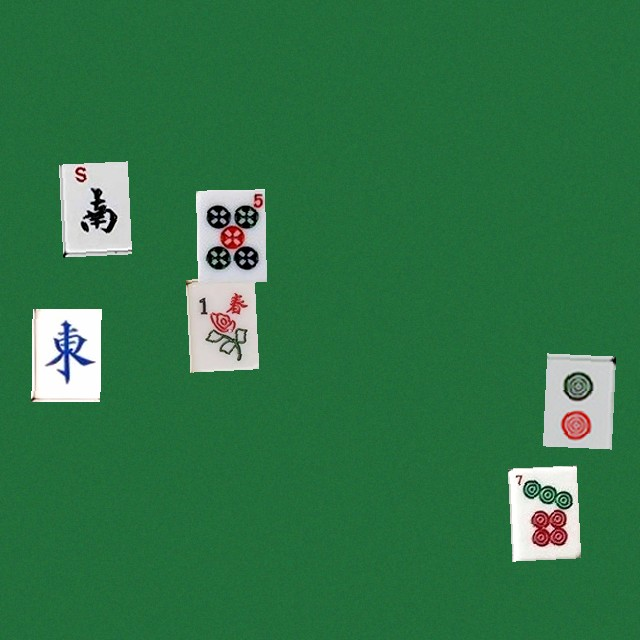tile: (31, 308, 100, 401), (542, 353, 611, 446), (507, 465, 576, 558), (185, 276, 254, 369), (58, 161, 127, 254), (196, 189, 265, 282)
